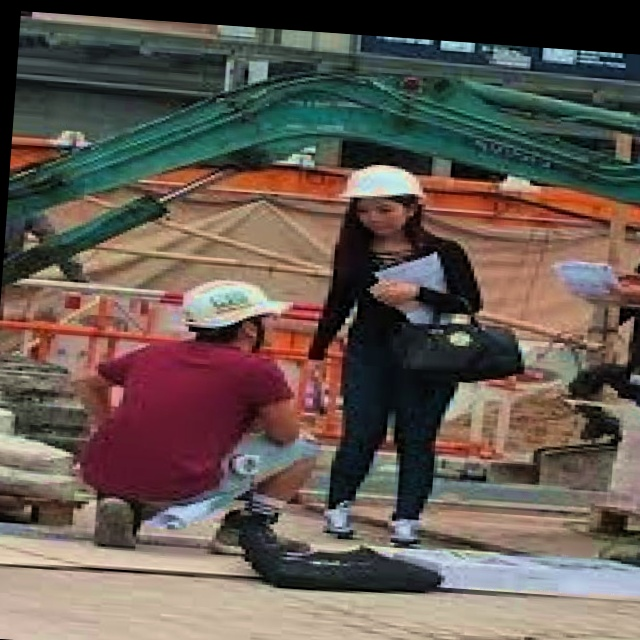Con_Casco: (180, 279, 293, 350), (341, 160, 429, 234)
